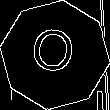O_S: (30, 27, 80, 83)
